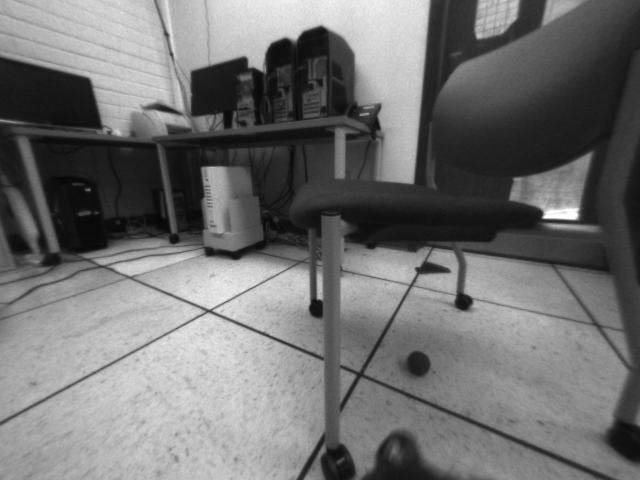dogtoy: (398, 341, 440, 382)
